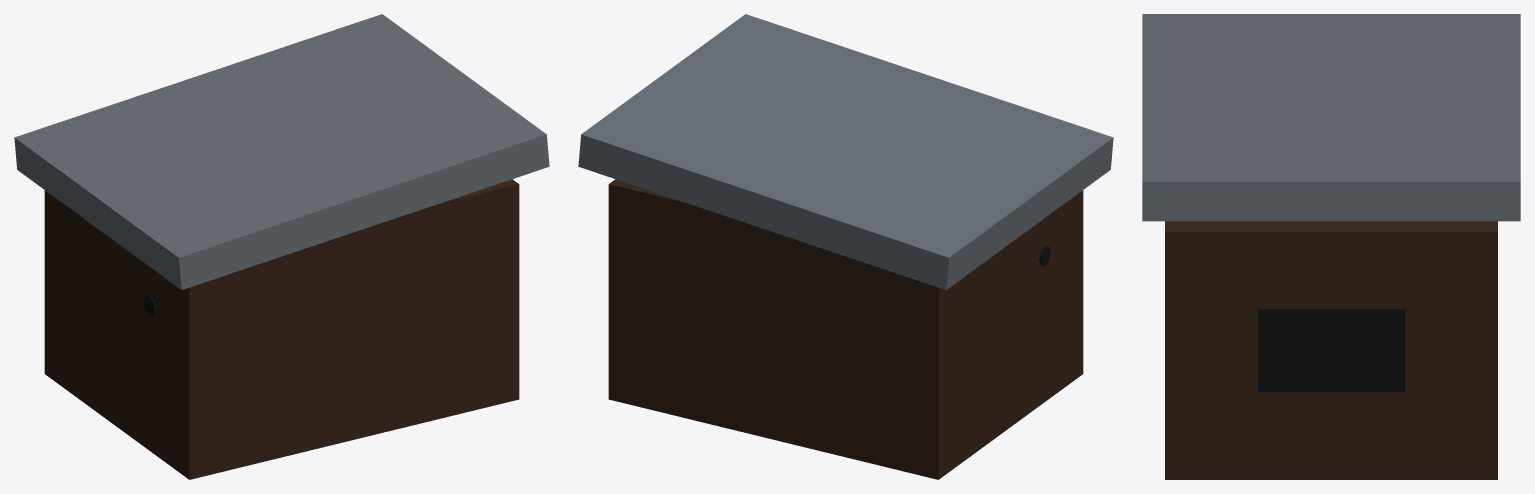
Rendered from generator-shed.glb.
The picture shows the model from 3 angles, left to right: view 1: azimuth 30°, elevation 25°; view 2: azimuth 150°, elevation 25°; view 3: azimuth 270°, elevation 25°; orthographic projection. The views are drawn at different scales.
Visible parts, largest first — view 1: shedBody, tinRoof; view 2: shedBody, tinRoof; view 3: tinRoof, shedBody, ventPanel.
Part boxes in pixels (x1,y1,x2,y2): shedBody: (44, 179, 519, 479); tinRoof: (14, 14, 549, 289); shedBody: (608, 179, 1083, 479); tinRoof: (578, 14, 1113, 289); tinRoof: (1142, 14, 1520, 221); shedBody: (1165, 221, 1497, 479); ventPanel: (1258, 309, 1404, 391).
Bounding box in the file's own units: 1.41 × 0.9708 × 1.08.
